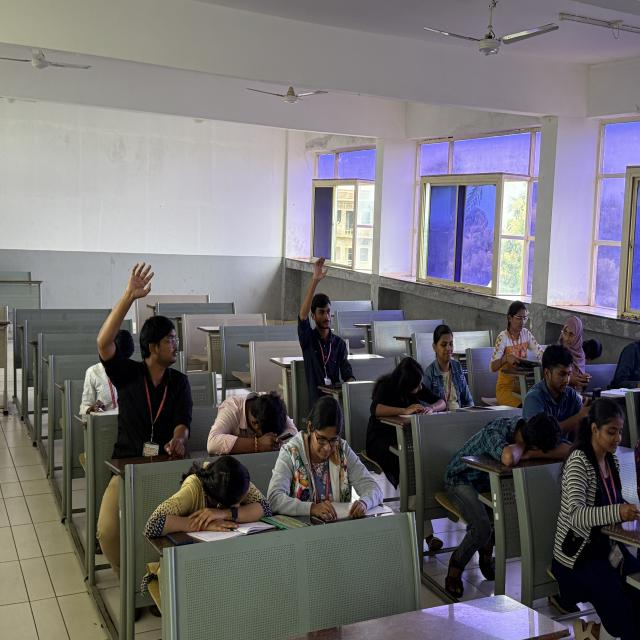Hand Rising: (81, 257, 225, 452), (285, 251, 381, 392)
Reading: (261, 389, 430, 536), (424, 321, 516, 409)
Sleeping: (153, 446, 278, 559), (451, 398, 567, 509), (203, 363, 314, 454)
Using Phone: (526, 343, 612, 435)
Writing: (549, 390, 640, 548), (68, 318, 148, 422), (551, 309, 635, 387), (429, 318, 453, 368)
